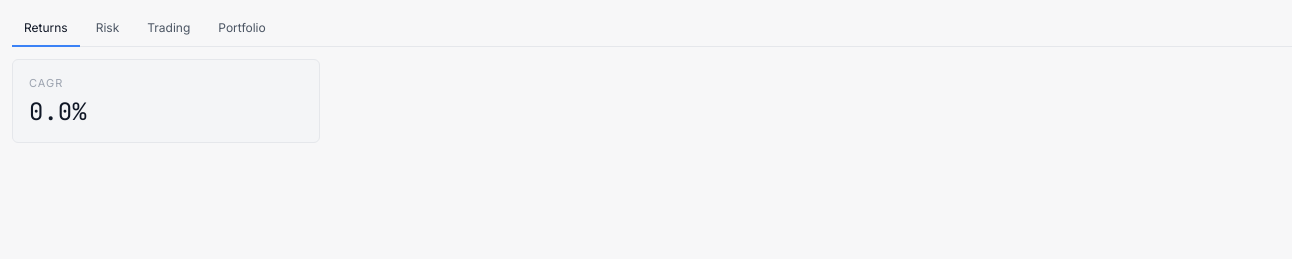
Test: KpiCards › formats max drawdown as a negative percentage
Click the tab "Risk": (108, 29) [84, 12, 131, 47]
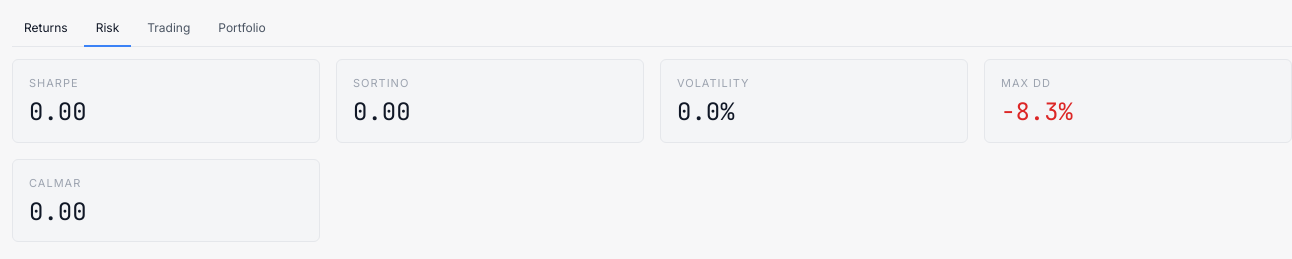
Expected: the text "Max DD" is shown, [1001, 76, 1051, 90]
Expected: the text "-8.3%" is shown, [1001, 96, 1073, 127]
